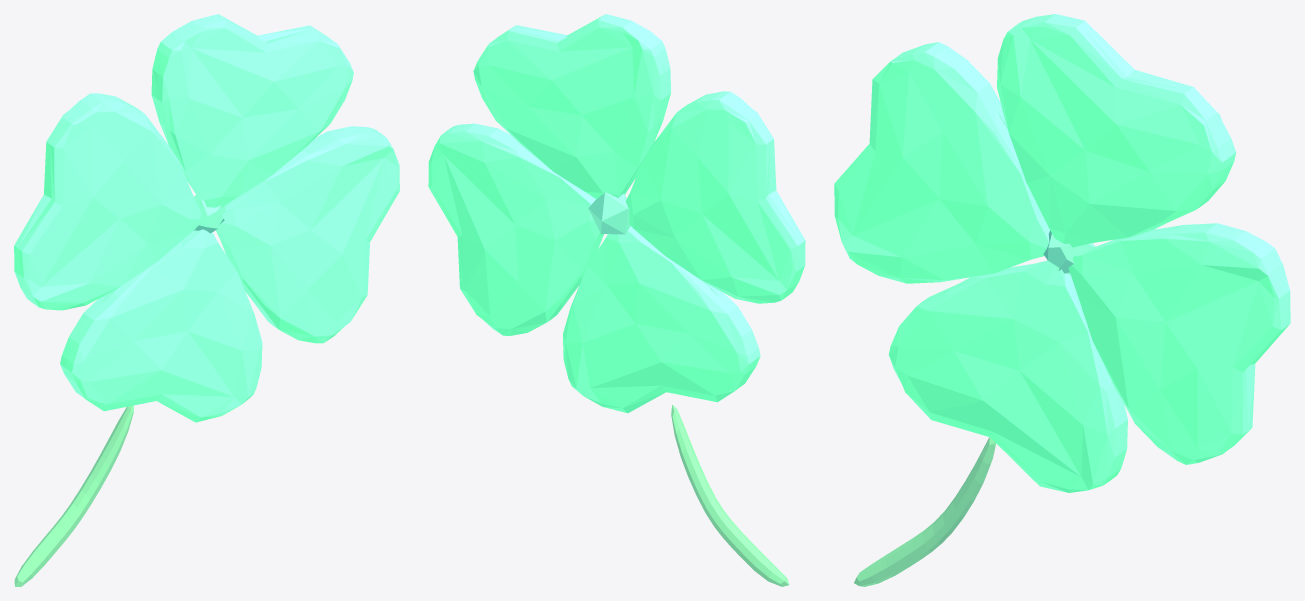
The model's file is StarCoin.glb.
3 renders of one model, left to right at view 1: azimuth 30°, elevation 25°; view 2: azimuth 150°, elevation 25°; view 3: azimuth 330°, elevation 25°, orthographic. The views are drawn at different scales.
Visible parts, largest first — view 1: Clover; view 2: Clover; view 3: Clover.
Boxes of the visible parts, left/top/right/bottom form: Clover: left=14, top=14, right=399, bottom=586; Clover: left=428, top=14, right=805, bottom=586; Clover: left=834, top=14, right=1290, bottom=586.
Size of the model in its own units: 4.55 by 6.08 by 0.5828.
